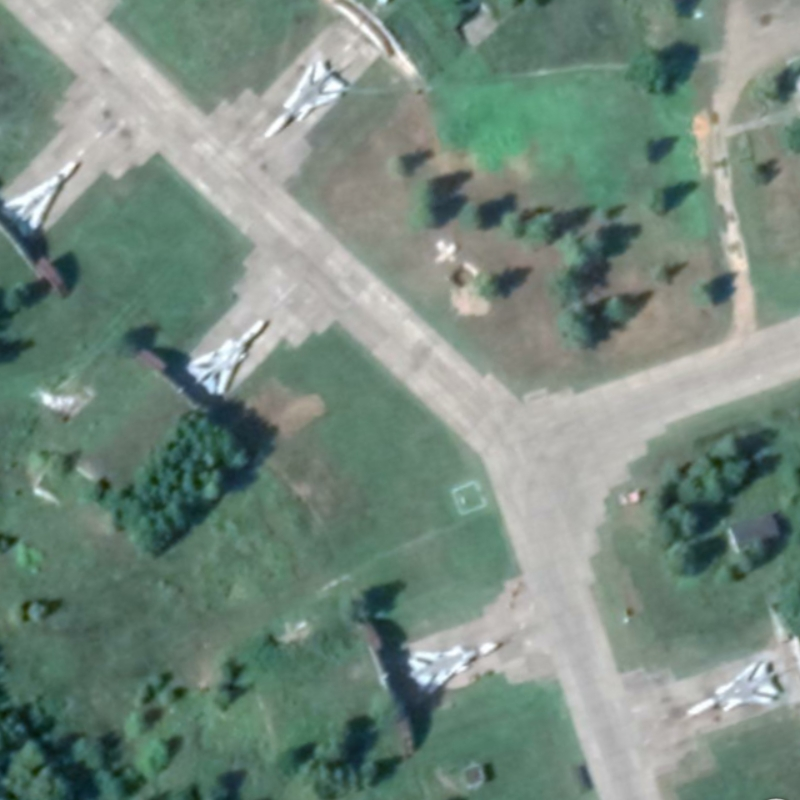A20: (262, 59, 346, 139), (184, 317, 267, 397), (1, 159, 78, 239), (685, 659, 780, 718), (406, 641, 501, 696)
